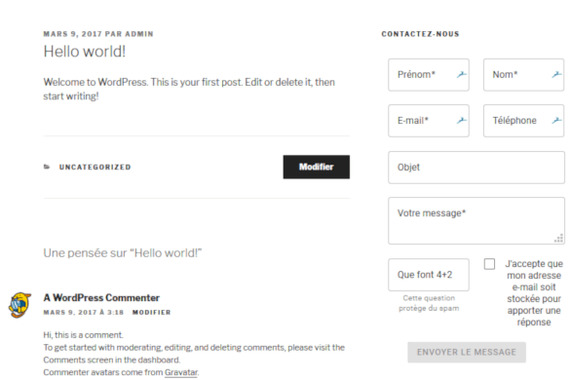button: (405, 338, 526, 364), (282, 154, 352, 180)
checkbox: (482, 256, 500, 271)
field: (384, 196, 565, 246), (387, 150, 565, 185), (481, 57, 564, 93), (385, 57, 470, 92), (480, 103, 565, 138), (387, 256, 469, 292), (387, 104, 470, 137)
